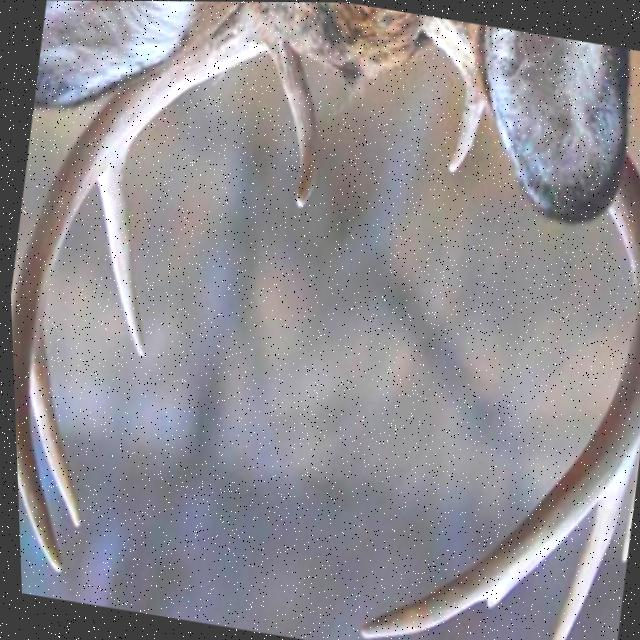L-G1: (445, 78, 486, 173)
R-G1: (266, 42, 317, 208)
R-G2: (96, 151, 142, 357)
